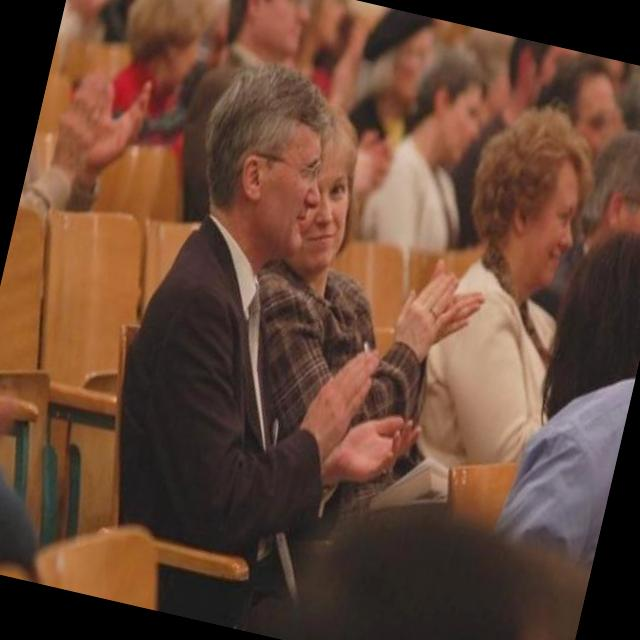no_vest: (72, 196, 314, 618), (219, 234, 452, 502), (416, 242, 586, 468)
